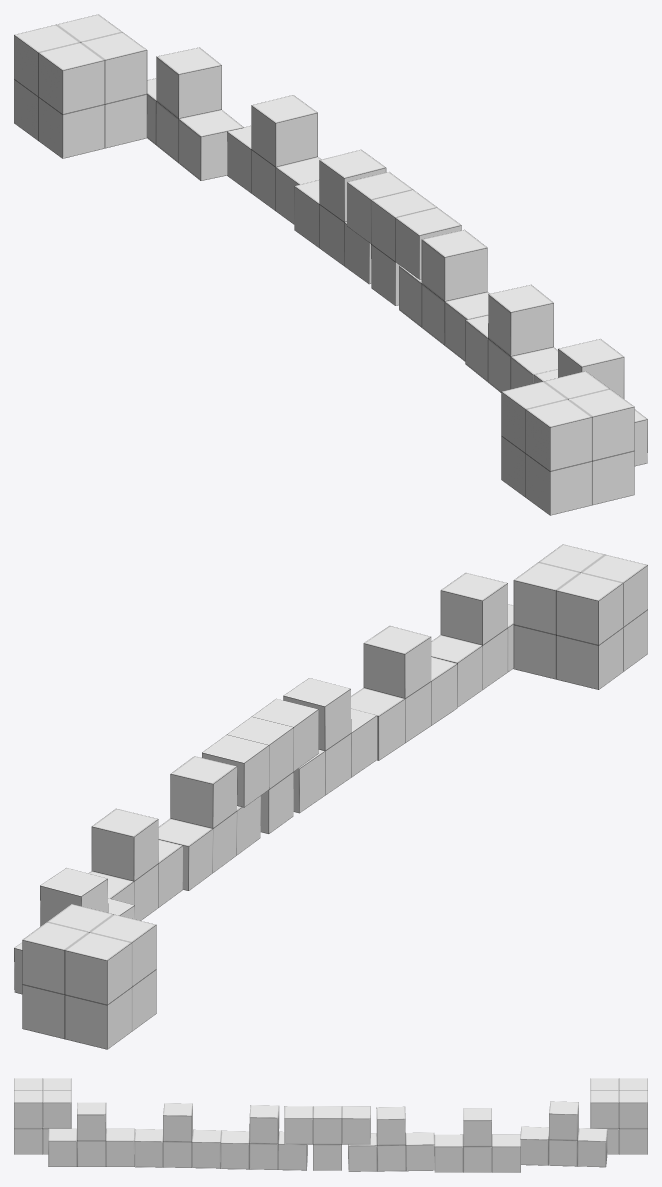
3 views of the same model, one above another, from view 1: azimuth 30°, elevation 25°; view 2: azimuth 150°, elevation 25°; view 3: azimuth 270°, elevation 25° (orthographic). The views are drawn at different scales.
Parts seen in each view (by area): view 1: Plane/BasicEnvironment/StartCube-1, Plane/BasicEnvironment/StartCube-2, GridTShape_5, GridTShape_4, GridTShape_7, GridTShape_6, GridTShape_3, GridTShape_2, GridTShape_1; view 2: Plane/BasicEnvironment/StartCube-2, Plane/BasicEnvironment/StartCube-1, GridTShape_3, GridTShape_2, GridTShape_7, GridTShape_1, GridTShape_4, GridTShape_6, GridTShape_5; view 3: GridTShape_5, GridTShape_1, GridTShape_3, GridTShape_7, GridTShape_4, Plane/BasicEnvironment/StartCube-2, GridTShape_6, GridTShape_2, Plane/BasicEnvironment/StartCube-1.
Boxes of the visible parts, <box> form: Plane/BasicEnvironment/StartCube-1: <box>501,371,634,515</box>; Plane/BasicEnvironment/StartCube-2: <box>14,14,147,158</box>; GridTShape_5: <box>147,47,243,180</box>; GridTShape_4: <box>227,95,321,224</box>; GridTShape_7: <box>347,172,461,305</box>; GridTShape_6: <box>399,229,489,361</box>; GridTShape_3: <box>465,284,557,392</box>; GridTShape_2: <box>294,149,386,284</box>; GridTShape_1: <box>534,339,647,466</box>; Plane/BasicEnvironment/StartCube-2: <box>22,904,156,1049</box>; Plane/BasicEnvironment/StartCube-1: <box>513,544,647,689</box>; GridTShape_3: <box>351,626,457,760</box>; GridTShape_2: <box>158,756,260,890</box>; GridTShape_7: <box>202,698,318,833</box>; GridTShape_1: <box>431,573,513,707</box>; GridTShape_4: <box>88,808,182,920</box>; GridTShape_6: <box>283,678,376,813</box>; GridTShape_5: <box>14,868,134,994</box>; GridTShape_5: <box>520,1101,607,1167</box>; GridTShape_1: <box>48,1102,134,1166</box>; GridTShape_3: <box>134,1103,221,1168</box>; GridTShape_7: <box>284,1106,370,1170</box>; GridTShape_4: <box>434,1108,520,1172</box>; Plane/BasicEnvironment/StartCube-2: <box>590,1078,647,1154</box>; GridTShape_6: <box>220,1105,307,1170</box>; GridTShape_2: <box>348,1106,434,1171</box>; Plane/BasicEnvironment/StartCube-1: <box>14,1078,71,1154</box>.
Bounding box in the file's own units: 0.3504 × 0.2025 × 2.2.
